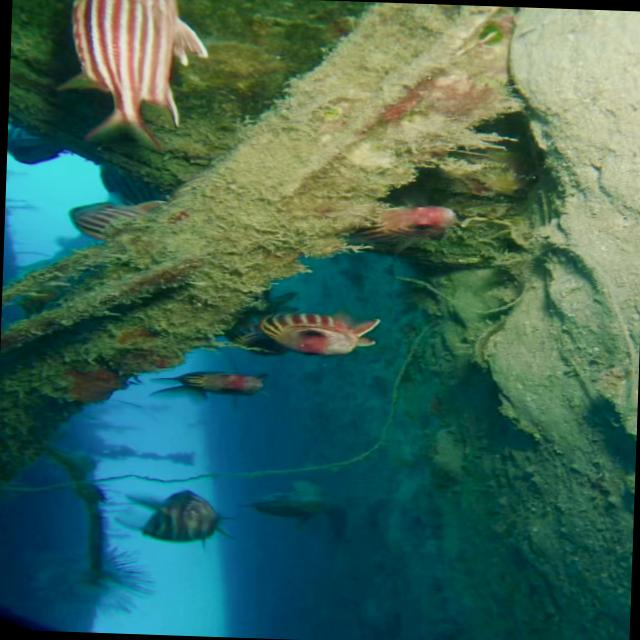Asker Baligi: (55, 0, 211, 154), (252, 300, 362, 378)
